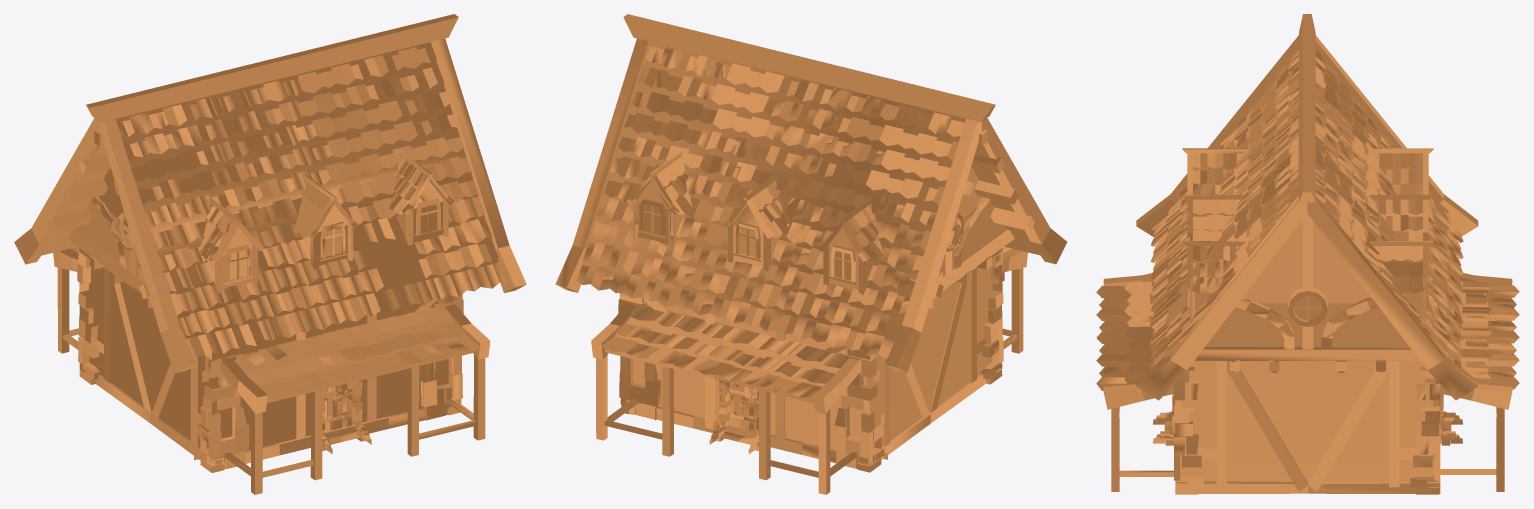
Rendered from market.glb.
3 renders of one model, left to right at view 1: azimuth 30°, elevation 25°; view 2: azimuth 150°, elevation 25°; view 3: azimuth 270°, elevation 25°, orthographic.
Visible parts, largest first — view 1: Inn; view 2: Inn; view 3: Inn.
Boxes of the visible parts, x1,y1,x2,y2 form: Inn: (14,14,526,494); Inn: (555,14,1067,494); Inn: (1096,14,1519,494).
Size of the model in its own units: 403 by 349 by 402.
